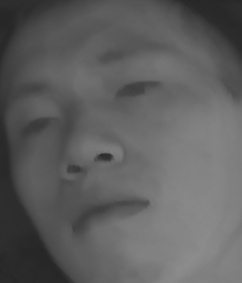eye: (110, 76, 165, 107), (15, 113, 60, 141)
mouth: (65, 182, 150, 235)
